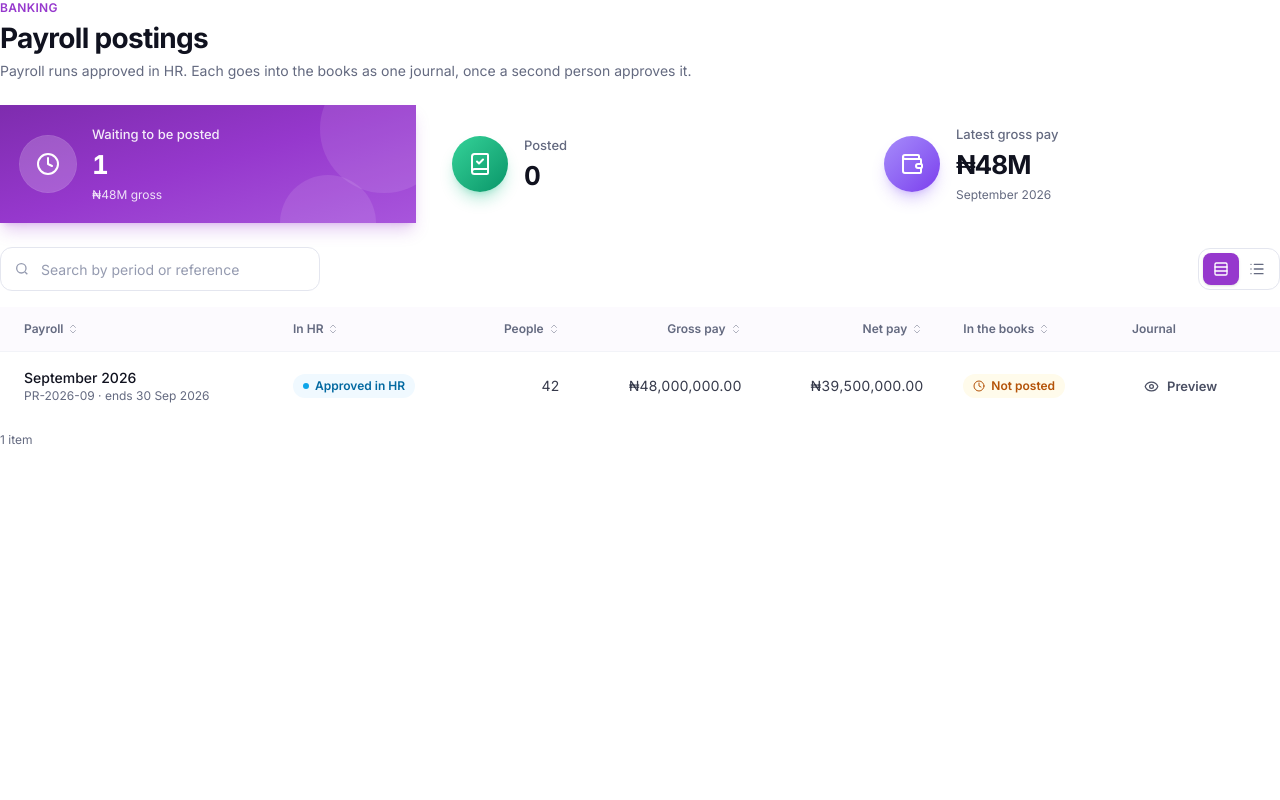
Test case: PayrollPostingsBoard › sends a run for approval after asking, then says it is waiting
Click the button with aria-label "Preview the journal for September 2026" at [1181, 386], box [1132, 368, 1229, 404]
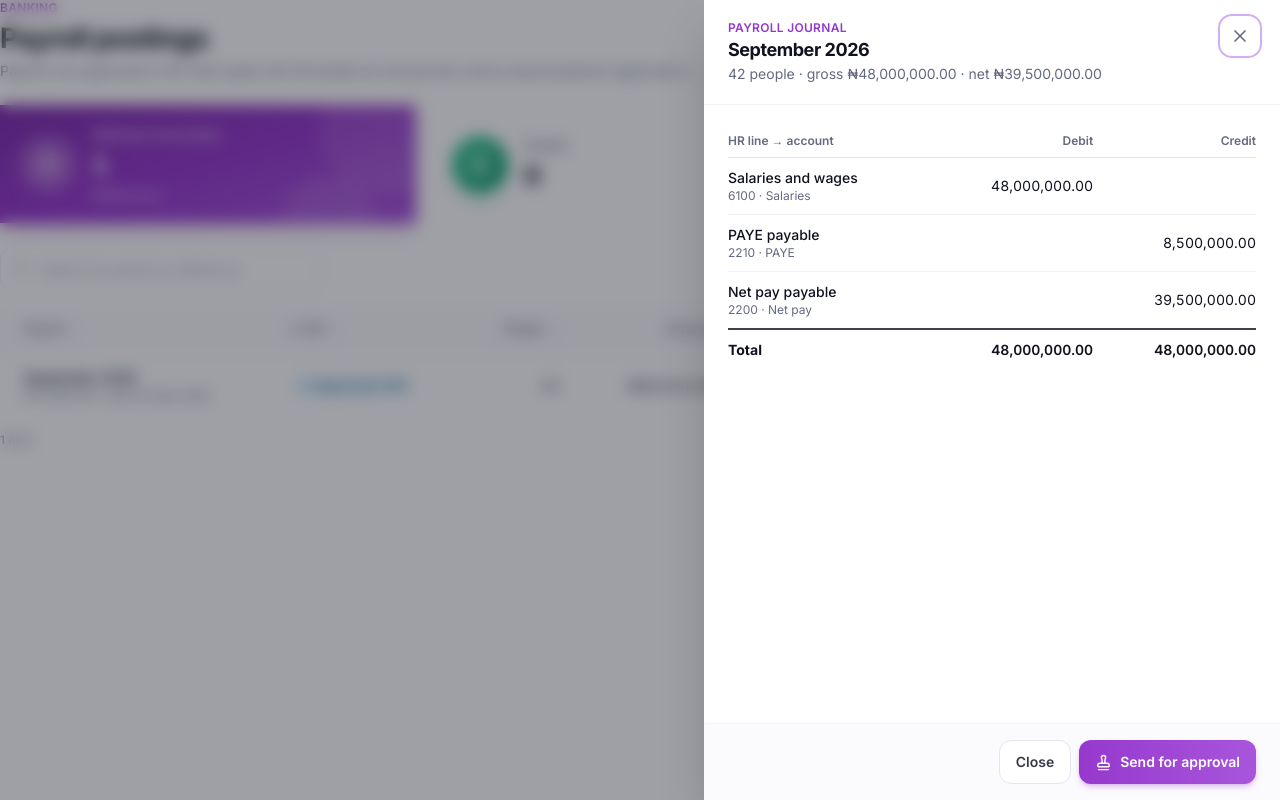
Result: the text "6100 · Salaries" is shown at [728, 188, 811, 203]
Click the button "Send for approval" at [1168, 762], box [1079, 740, 1256, 784]
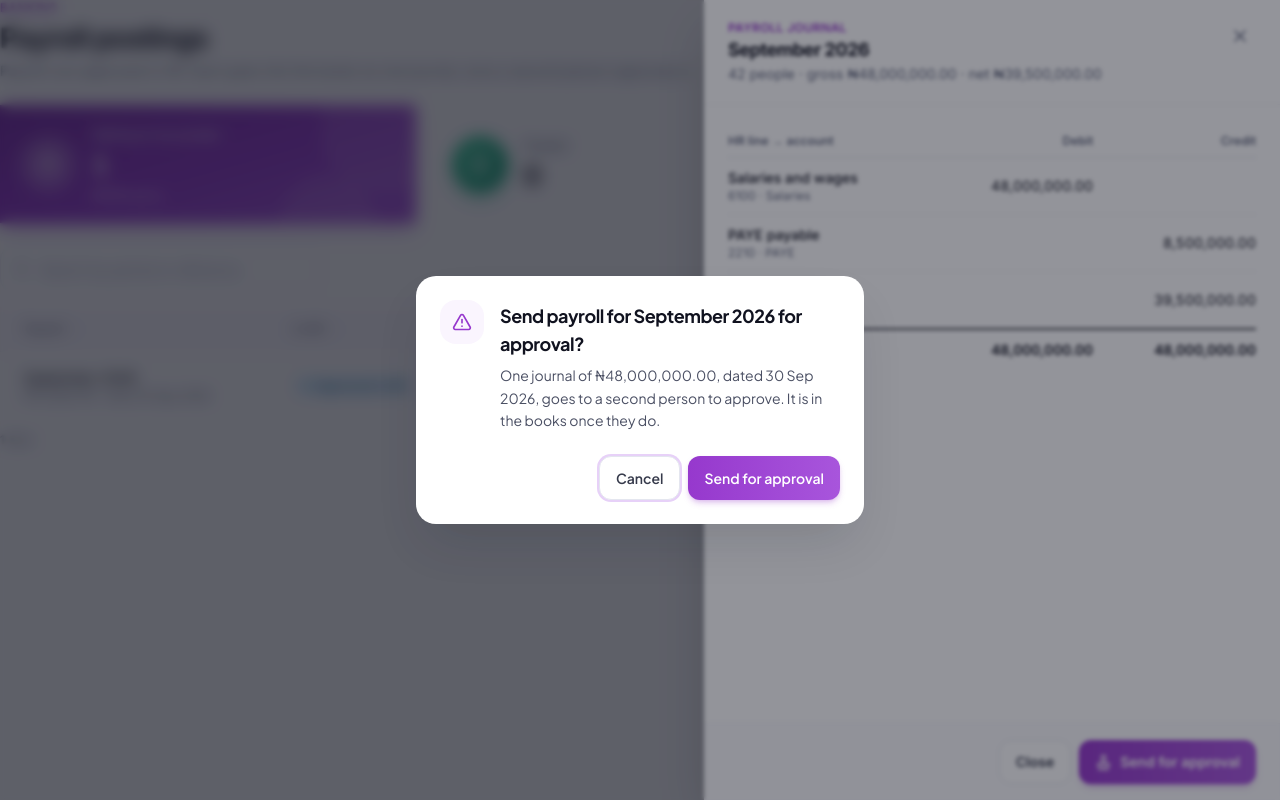
Result: the dialog "Send payroll for September 2026 for approval?" shows "It is in the books once they do." at [500, 366, 822, 429]
Click the button "Send for approval" at [764, 478], box [688, 456, 840, 500]
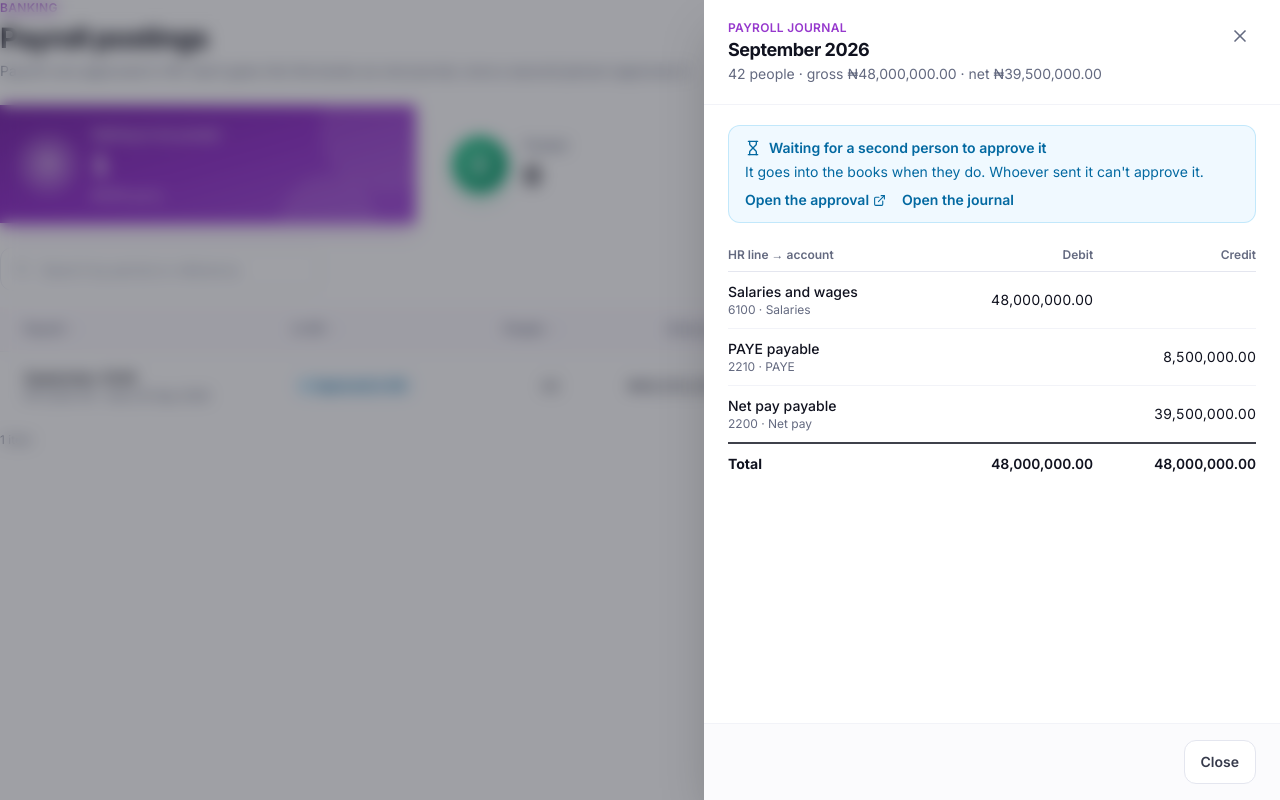
Result: the text "Waiting for a second person to approve it" is shown at [745, 139, 1047, 156]
Result: the button "Send for approval" is gone
